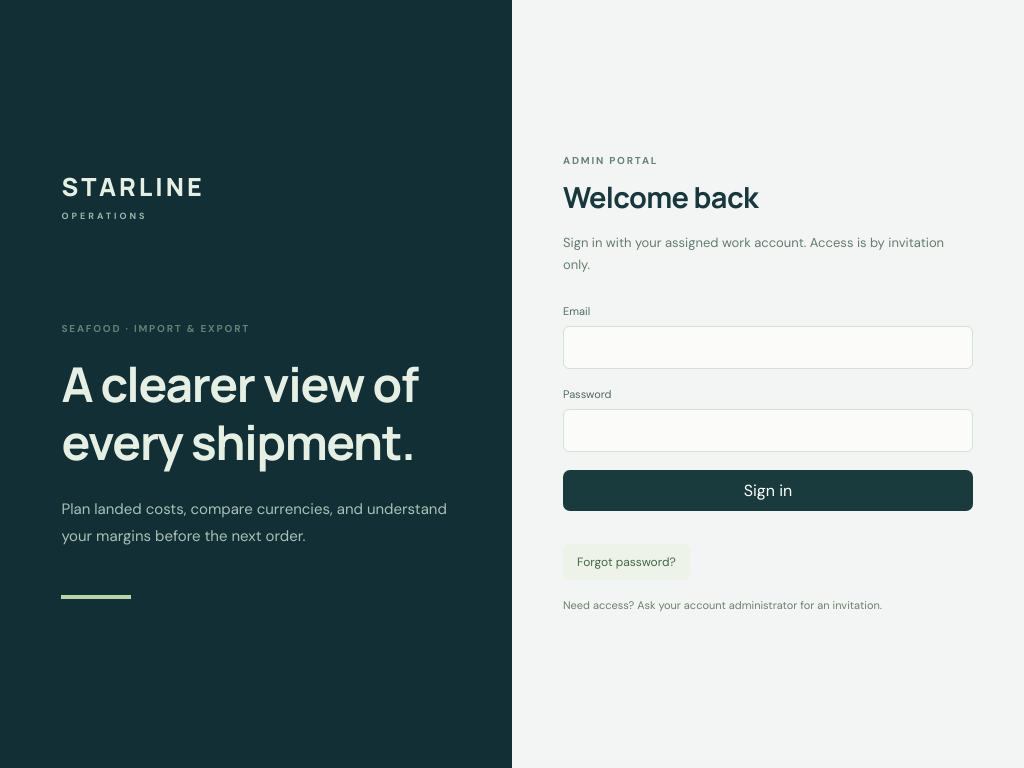
failed login keeps dashboard hidden and clears the password
This screenshot has width=1024, height=768.
Expected: the button "Sign in" is shown, left=563, top=470, right=973, bottom=511
Type "ops@example.com" into the field labelled "Email" at (768,347), box left=563, top=326, right=973, bottom=369
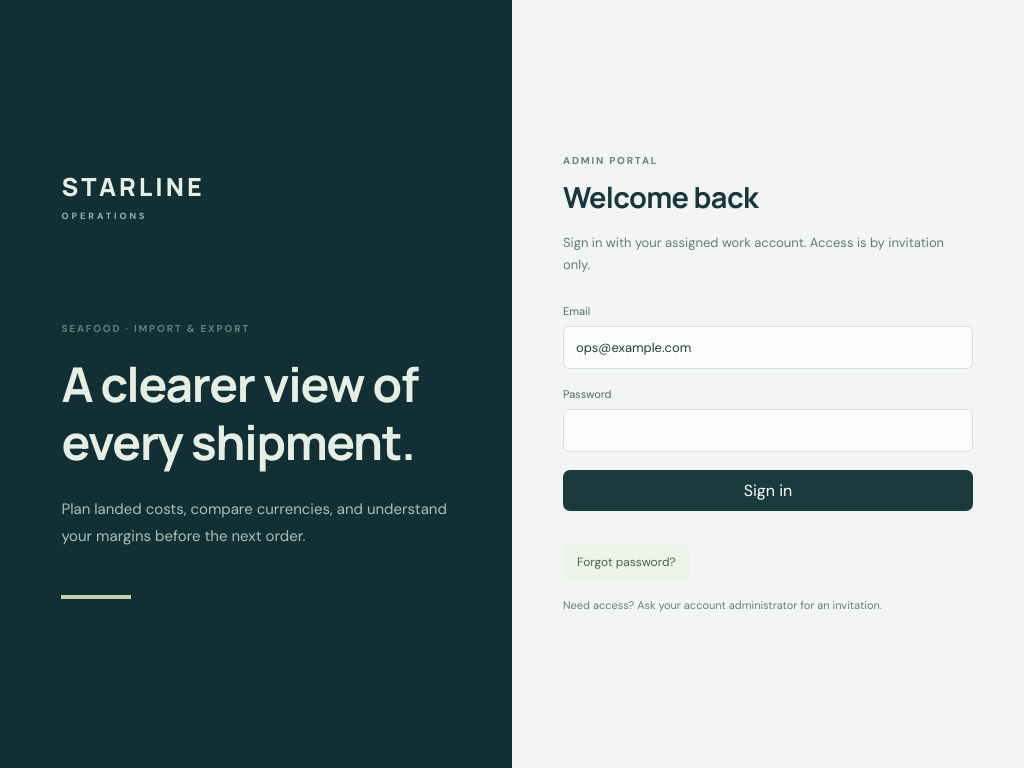
Type "example-password" into the password field labelled "Password" at (768,430), box left=563, top=409, right=973, bottom=452
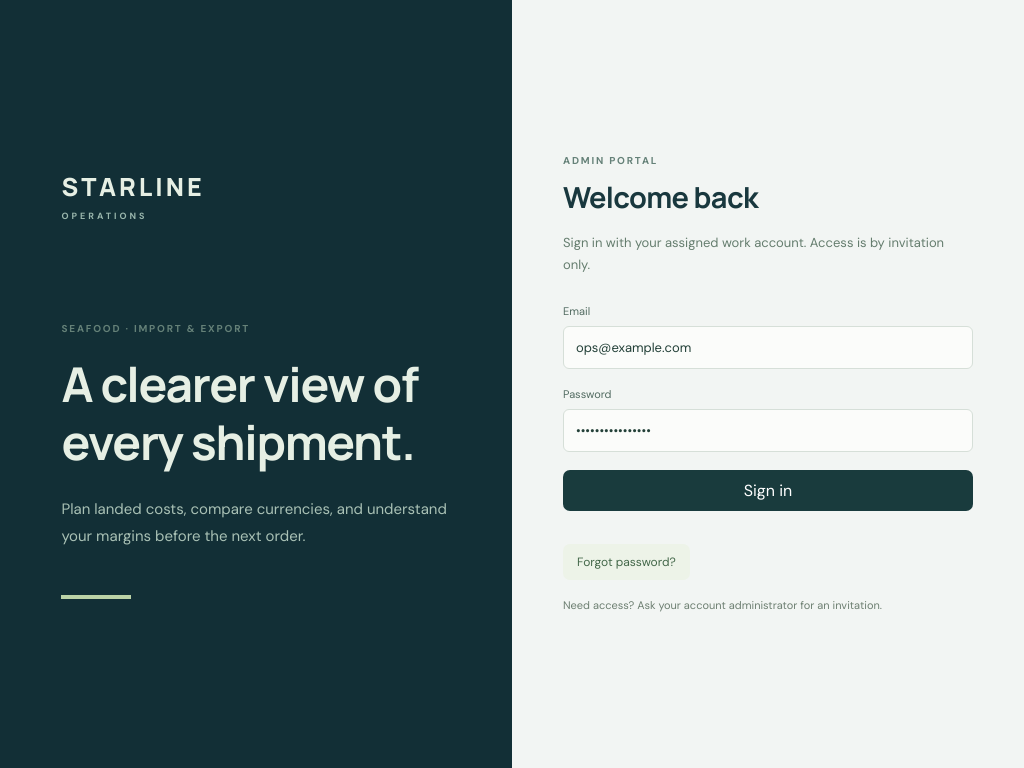
Click the button "Sign in" at (768,490), box left=563, top=470, right=973, bottom=511
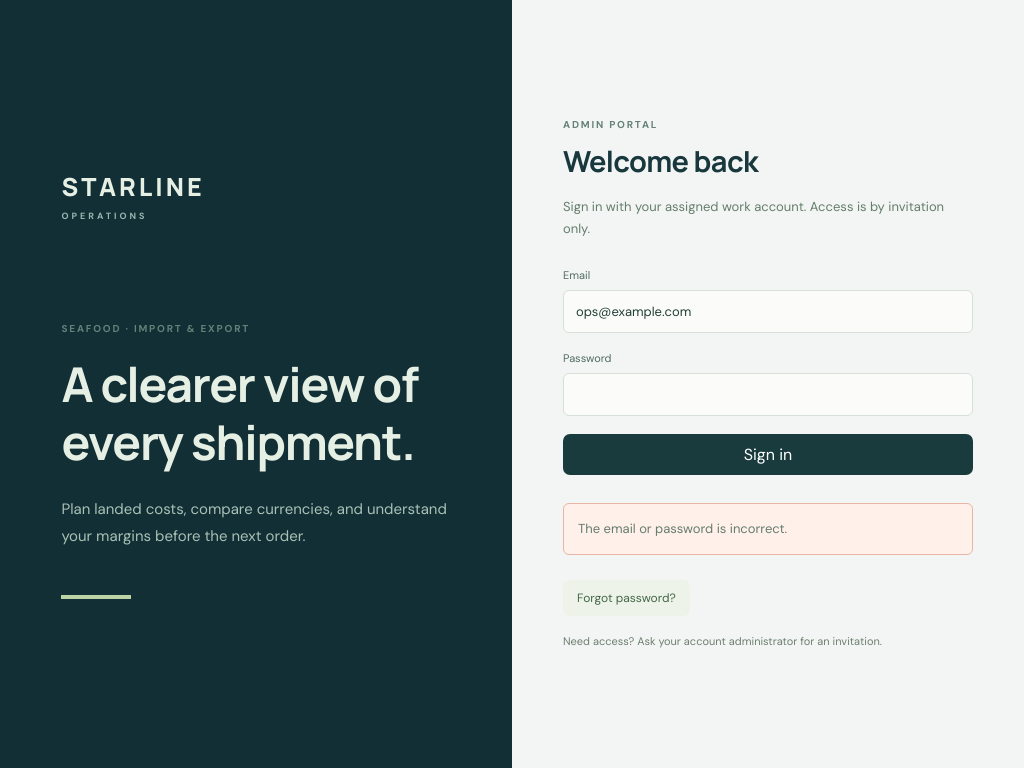
Expected: the message "The email or password is incorrect." is shown, left=563, top=503, right=973, bottom=555
Expected: the password field labelled "Password" is empty, left=563, top=373, right=973, bottom=416
